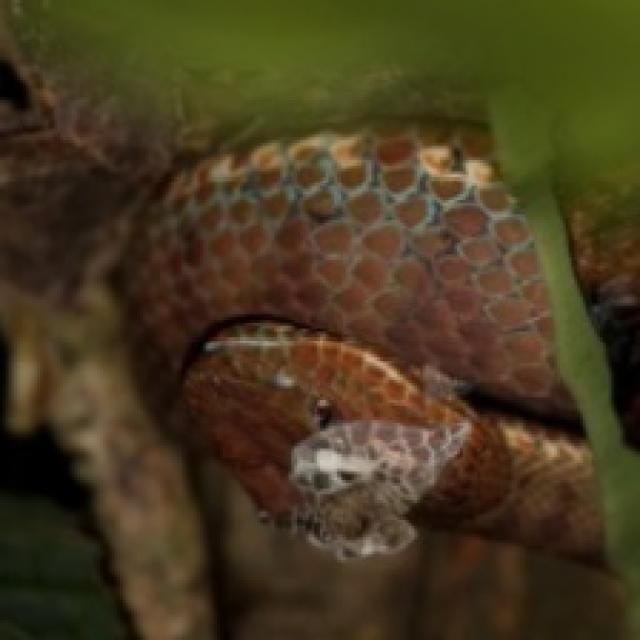philippine pitviper: (131, 114, 617, 583)
